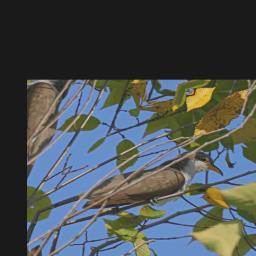Cuckoo: (74, 126, 246, 256)
